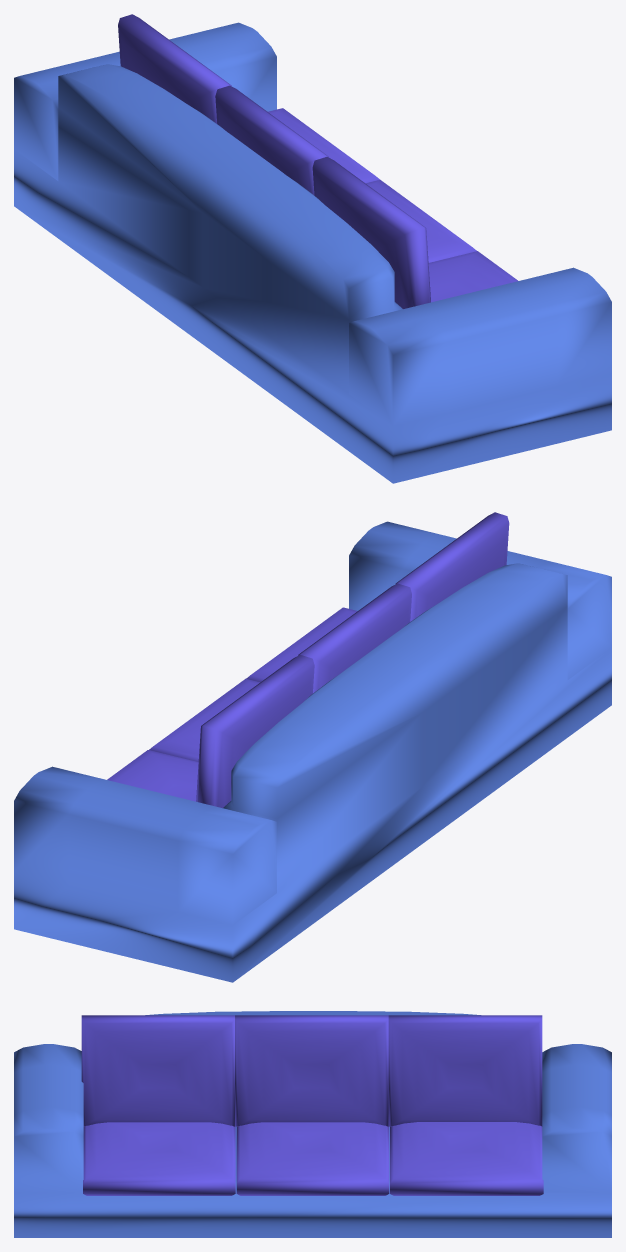
The model's file is Large_sofa.glb.
3 views of the same model, one above another, from view 1: azimuth 30°, elevation 25°; view 2: azimuth 150°, elevation 25°; view 3: azimuth 270°, elevation 25° (orthographic). The views are drawn at different scales.
Parts seen in each view (by area): view 1: Couch, Pillow.005, Pillow.003, Pillow.004, Pillow.002, Pillow, Pillow.001; view 2: Couch, Pillow.003, Pillow.005, Pillow.004, Pillow.001, Pillow, Pillow.002; view 3: Couch, Pillow.003, Pillow.004, Pillow.005, Pillow, Pillow.001, Pillow.002.
Part boxes in pixels (left/top/right/bottom): Couch: left=14, top=22, right=611, bottom=483; Pillow.005: left=312, top=157, right=430, bottom=308; Pillow.003: left=118, top=14, right=231, bottom=123; Pillow.004: left=215, top=85, right=328, bottom=195; Pillow.002: left=428, top=251, right=517, bottom=302; Pillow: left=366, top=179, right=476, bottom=262; Pillow.001: left=268, top=108, right=379, bottom=183; Couch: left=14, top=521, right=611, bottom=982; Pillow.003: left=196, top=654, right=314, bottom=807; Pillow.005: left=395, top=512, right=509, bottom=621; Pillow.004: left=298, top=583, right=411, bottom=693; Pillow.001: left=107, top=750, right=198, bottom=801; Pillow: left=149, top=678, right=259, bottom=761; Pillow.002: left=246, top=607, right=357, bottom=682; Couch: left=14, top=1011, right=611, bottom=1237; Pillow.003: left=388, top=1015, right=542, bottom=1126; Pillow.004: left=235, top=1015, right=388, bottom=1126; Pillow.005: left=81, top=1015, right=234, bottom=1126; Pillow: left=236, top=1122, right=389, bottom=1195; Pillow.001: left=390, top=1122, right=543, bottom=1195; Pillow.002: left=83, top=1122, right=235, bottom=1195.
Bounding box in the file's own units: 2.08 × 1.8 × 6.
